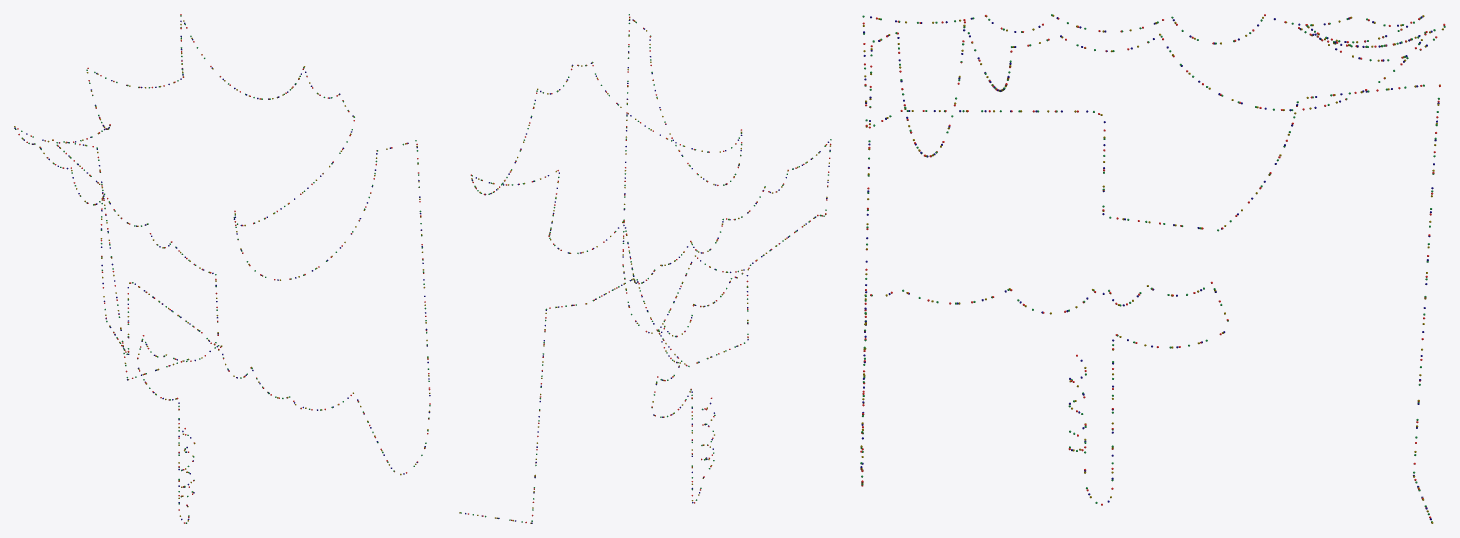
Rendered from garland-light.fbx.
3 renders of one model, left to right at view 1: azimuth 30°, elevation 25°; view 2: azimuth 150°, elevation 25°; view 3: azimuth 270°, elevation 25°, orthographic. The views are drawn at different scales.
Parts seen in each view (by area): view 1: Cloneur_1, Cloneur, Cloneur_3, Cloneur_2; view 2: Cloneur_1, Cloneur, Cloneur_3, Cloneur_2; view 3: Cloneur_1, Cloneur, Cloneur_2, Cloneur_3.
Boxes of the visible parts, x1,y1,x2,y2 form: Cloneur_1: [15, 15, 430, 523]; Cloneur: [17, 14, 430, 523]; Cloneur_3: [14, 20, 430, 521]; Cloneur_2: [14, 20, 430, 520]; Cloneur_1: [460, 14, 831, 522]; Cloneur: [468, 16, 831, 522]; Cloneur_3: [459, 18, 830, 523]; Cloneur_2: [465, 19, 830, 523]; Cloneur_1: [860, 14, 1445, 522]; Cloneur: [860, 14, 1445, 518]; Cloneur_2: [860, 16, 1439, 520]; Cloneur_3: [860, 14, 1443, 523].
Size of the model in its own units: 206 by 370 by 346.
